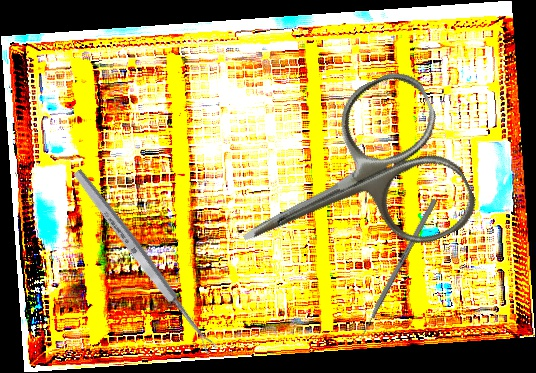Iris Scissors: (206, 62, 485, 314)
Pusher: (353, 197, 438, 349)
Surgical Spoon: (70, 167, 219, 356)
